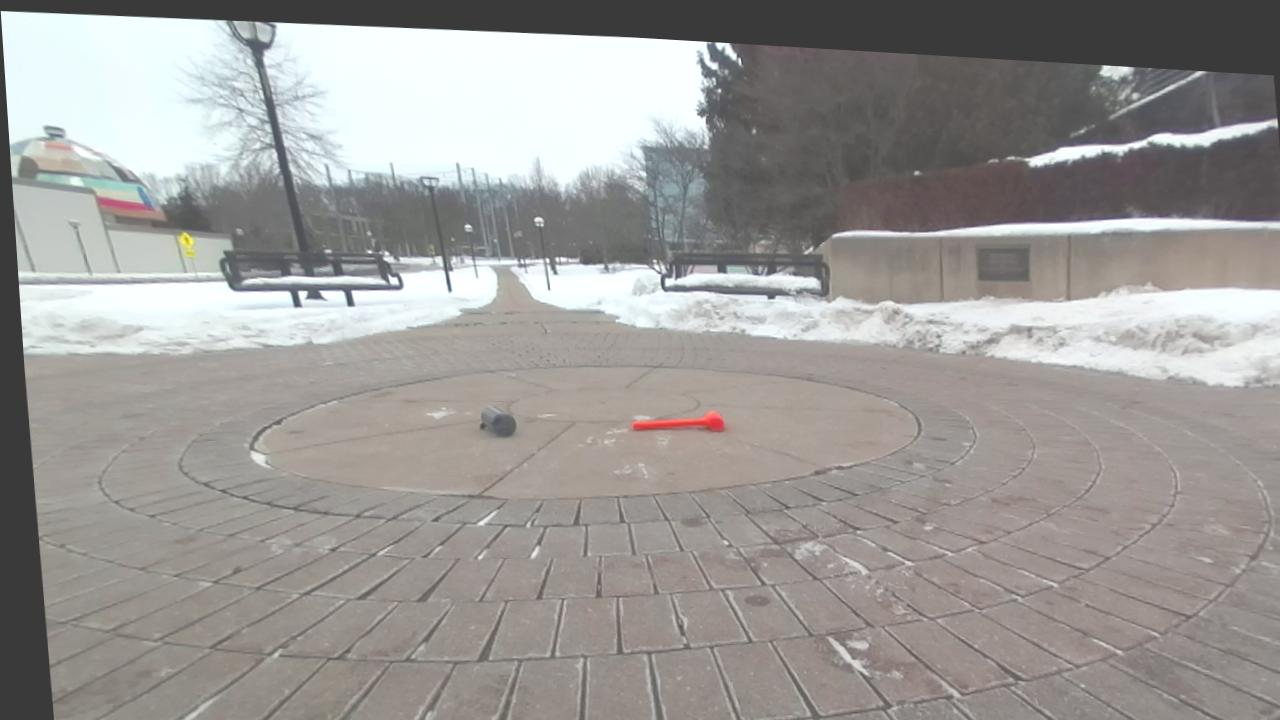bottle: (479, 407, 515, 436)
mallet: (632, 411, 725, 431)
